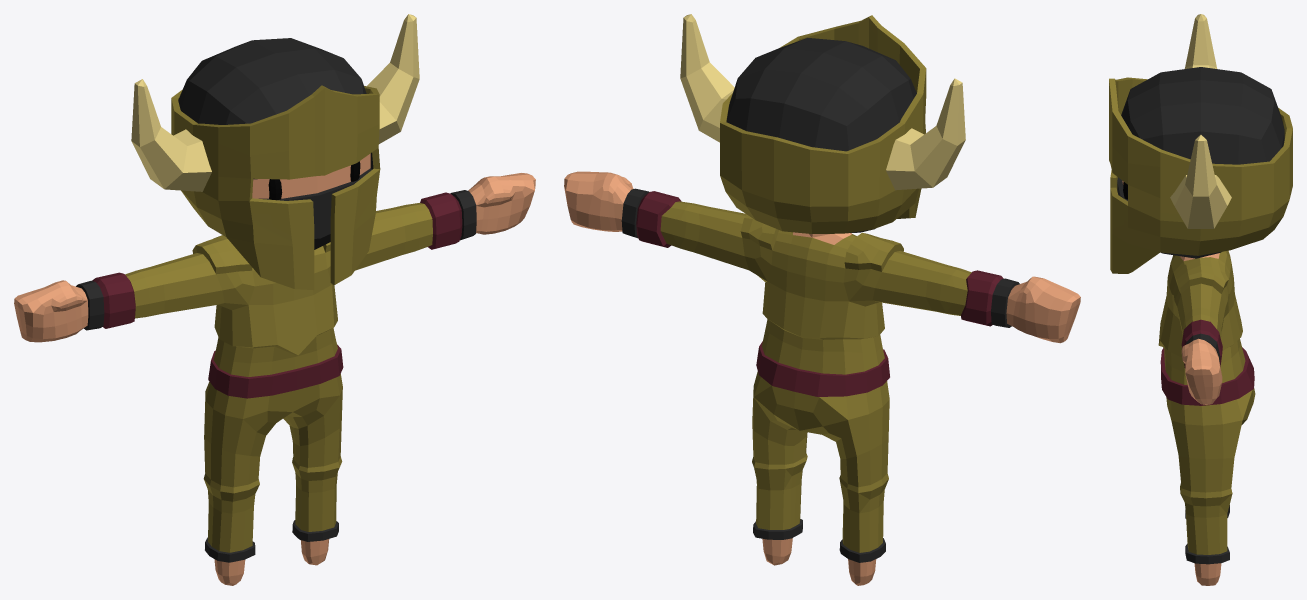
Rendered from SHIELDED_KNIGHT.fbx.
3 views of the same model, side by side, from view 1: azimuth 30°, elevation 25°; view 2: azimuth 150°, elevation 25°; view 3: azimuth 270°, elevation 25° (orthographic). The views are drawn at different scales.
Visible parts, largest first — view 1: Body.001; view 2: Body.001; view 3: Body.001.
Part boxes in pixels (x1,y1,x2,y2): Body.001: (14,14,535,585); Body.001: (564,14,1080,585); Body.001: (1109,14,1292,585).
Bounding box in the file's own units: 324 × 319 × 108.
